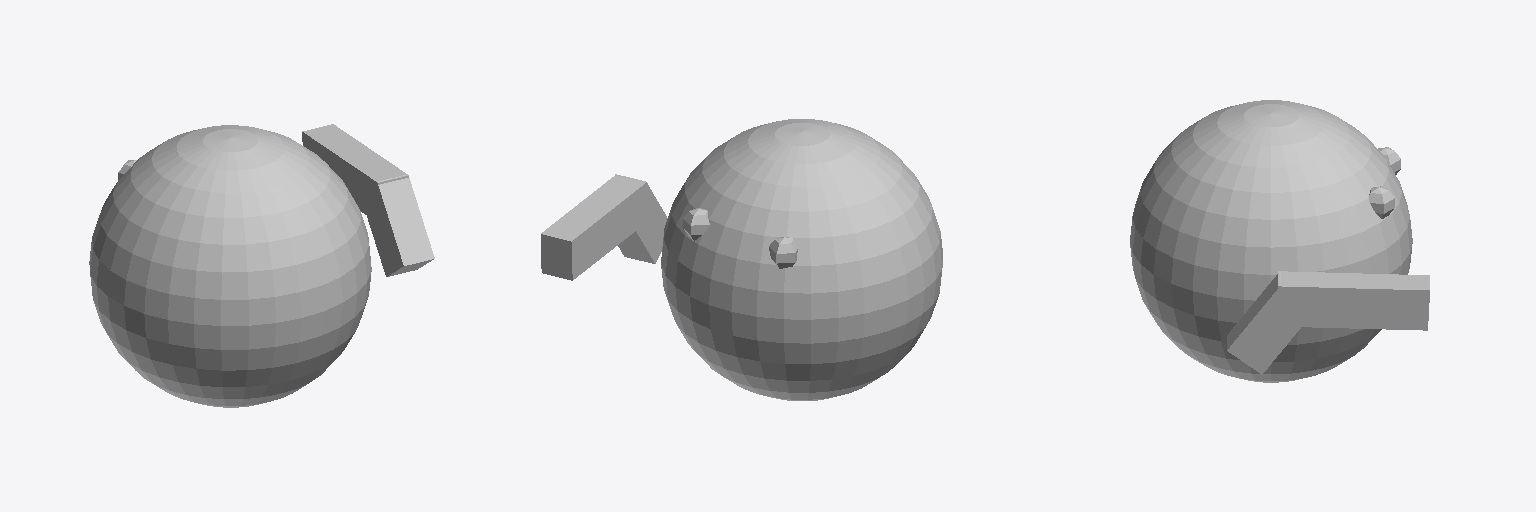
Rendered from basicTower.obj.
3 renders of one model, left to right at view 1: azimuth 30°, elevation 25°; view 2: azimuth 150°, elevation 25°; view 3: azimuth 270°, elevation 25°, orthographic.
Visible parts, largest first — view 1: Sphere, Cube, Cube.001; view 2: Sphere, Cube.001, Cube, Sphere.002, Sphere.001; view 3: Sphere, Cube.001, Cube, Sphere.001.
Boxes of the visible parts, x1=… form: Sphere: x1=89, y1=125, x2=371, y2=407; Cube: x1=360, y1=174, x2=434, y2=276; Cube.001: x1=302, y1=124, x2=408, y2=221; Sphere: x1=661, y1=119, x2=942, y2=400; Cube.001: x1=541, y1=174, x2=648, y2=280; Cube: x1=615, y1=174, x2=667, y2=263; Sphere.002: x1=769, y1=237, x2=797, y2=268; Sphere.001: x1=683, y1=208, x2=709, y2=240; Sphere: x1=1130, y1=100, x2=1412, y2=382; Cube.001: x1=1277, y1=271, x2=1429, y2=330; Cube: x1=1227, y1=271, x2=1314, y2=374; Sphere.001: x1=1369, y1=186, x2=1394, y2=218.
Size of the model in its own units: 2.49 by 2 by 2.12.